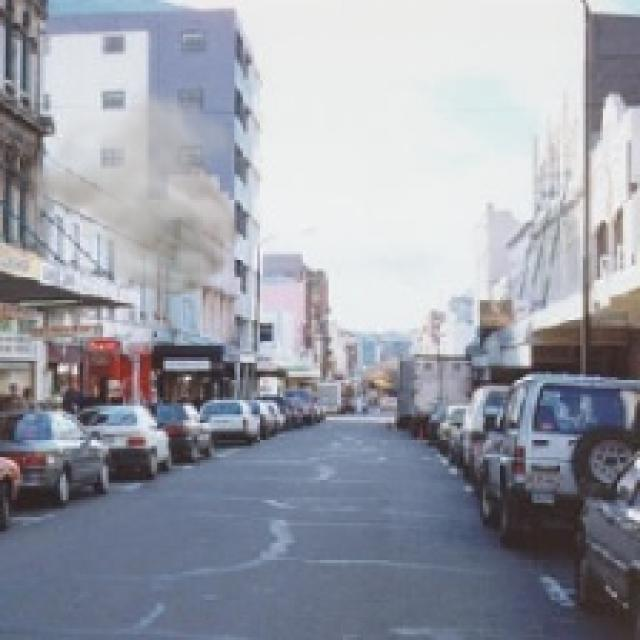smoke: (11, 80, 263, 317)
